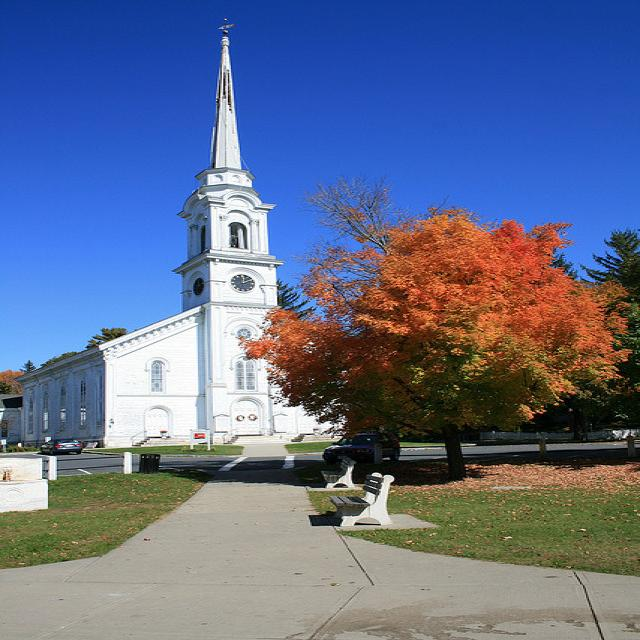Vehicle: (323, 430, 401, 463), (41, 439, 82, 455)
